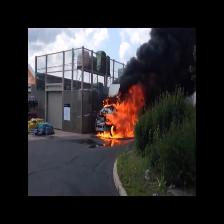fire: (106, 95, 137, 136)
smoke: (147, 27, 195, 96), (127, 65, 145, 84)
